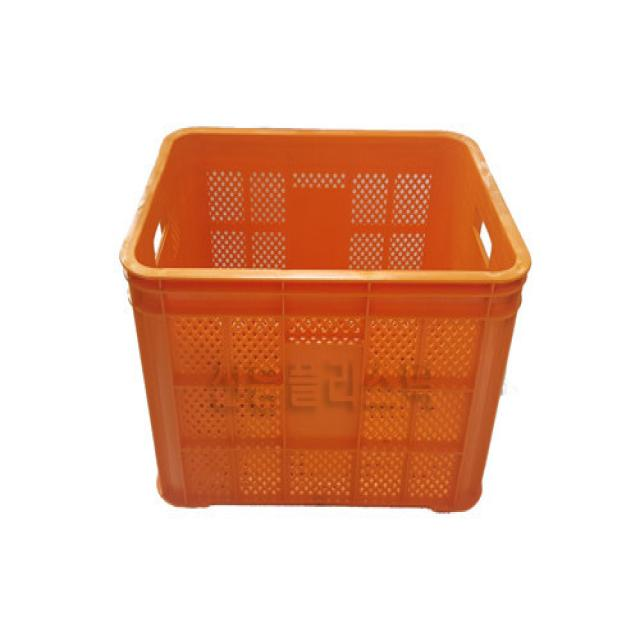basket: (117, 126, 533, 512)
